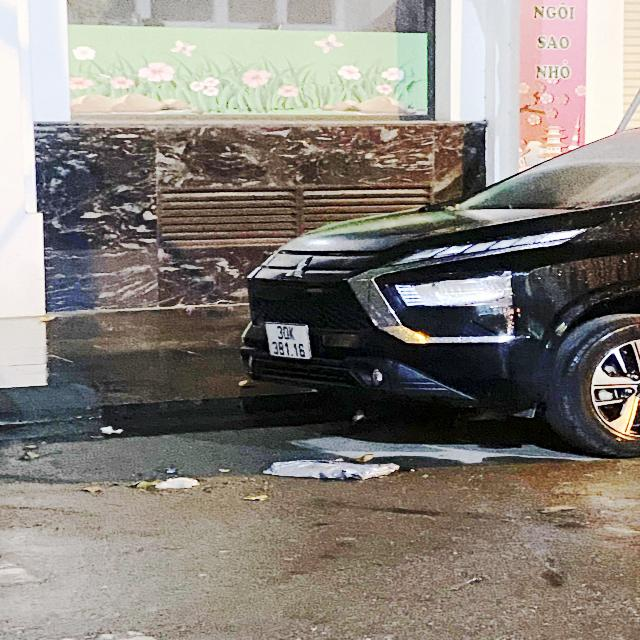license_plate: (264, 324, 314, 360)
